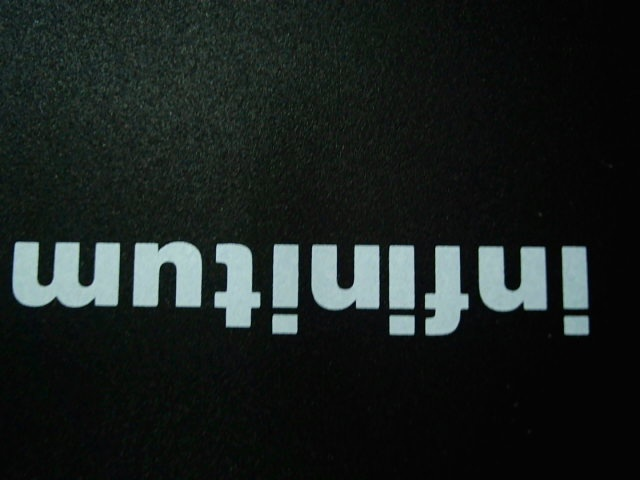BK_infinitum: (6, 228, 598, 351)
